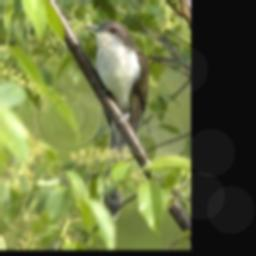Cuckoo: (83, 13, 148, 194)
